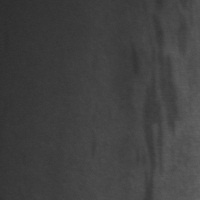inclusion: (134, 6, 183, 197)
